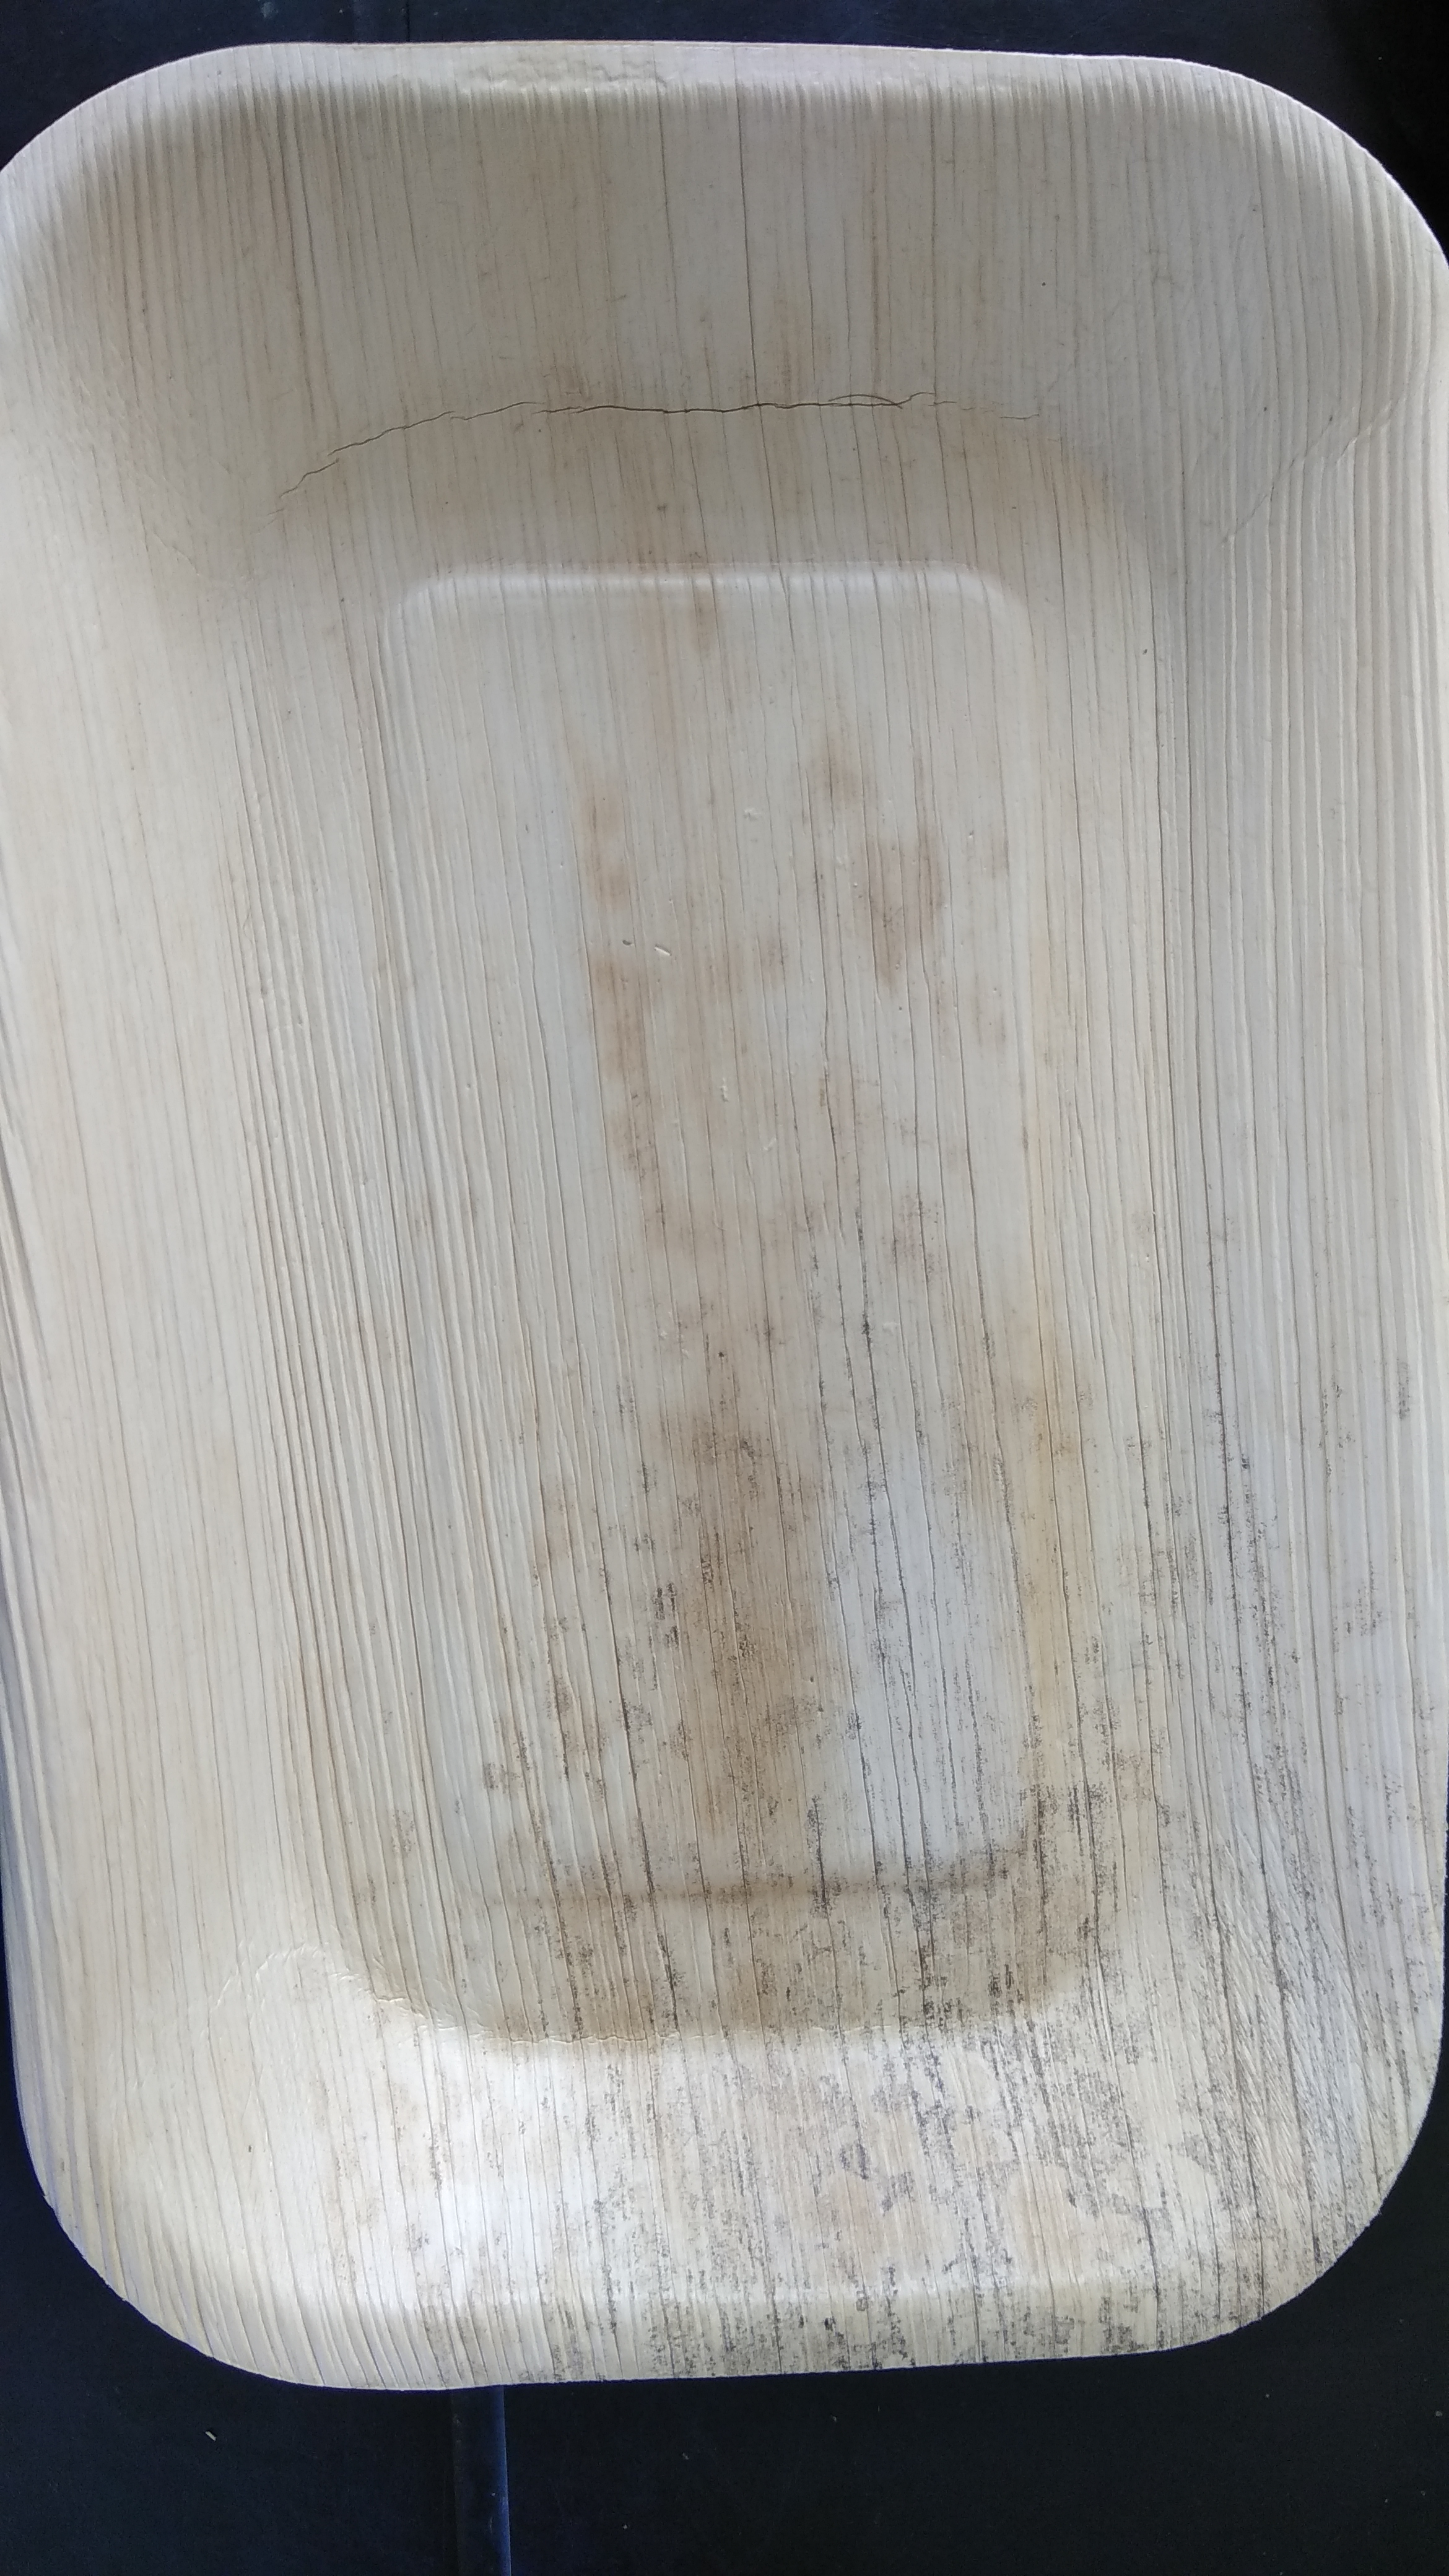areca plate: (21, 34, 1440, 2350)
